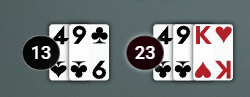4: (151, 23, 175, 47), (48, 24, 71, 48)
9: (172, 23, 195, 48), (69, 23, 89, 48)
k: (193, 23, 215, 49)
